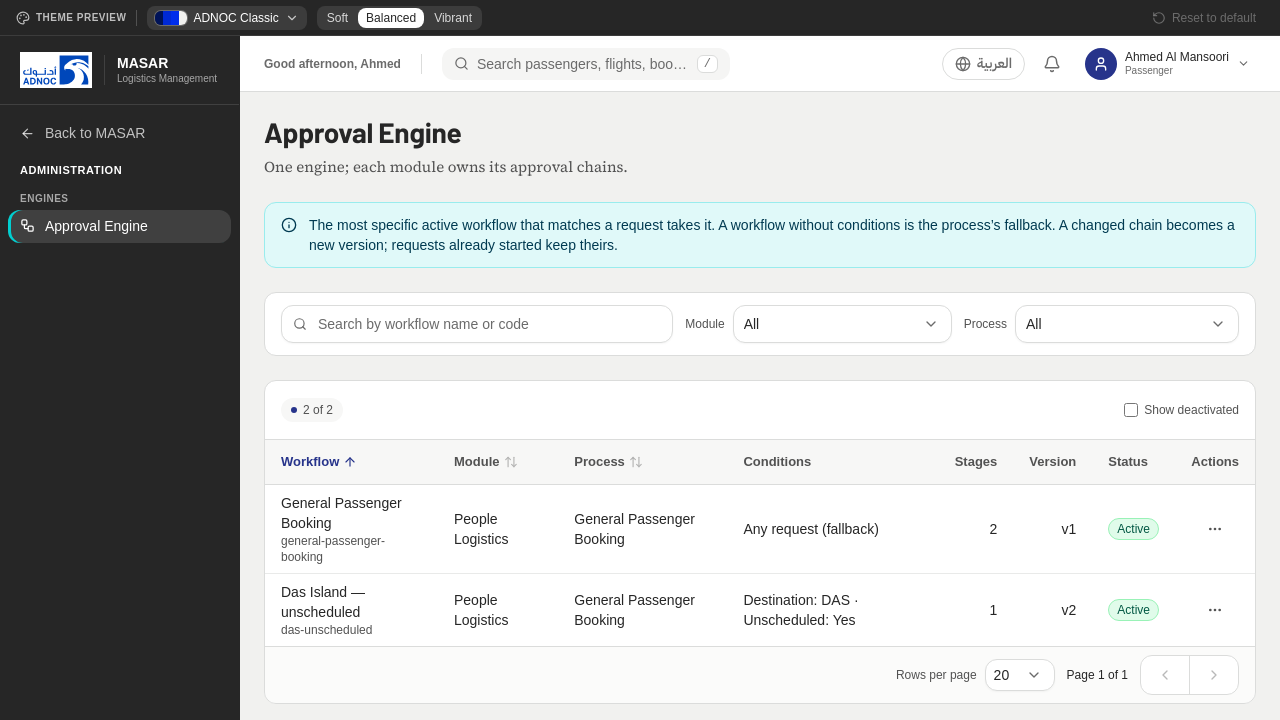
it: BRD-D.2.2.1-MST the Approval Engine page (spec 10 §3.1) › PROMPT-2.7 a viewer sees the list without New or edit
Expected: the text "Das Island — unscheduled" is shown, [281, 584, 365, 620]
Click the button named "Actions for General Passenger Booking".
click(1215, 529)  # box [1191, 510, 1239, 548]
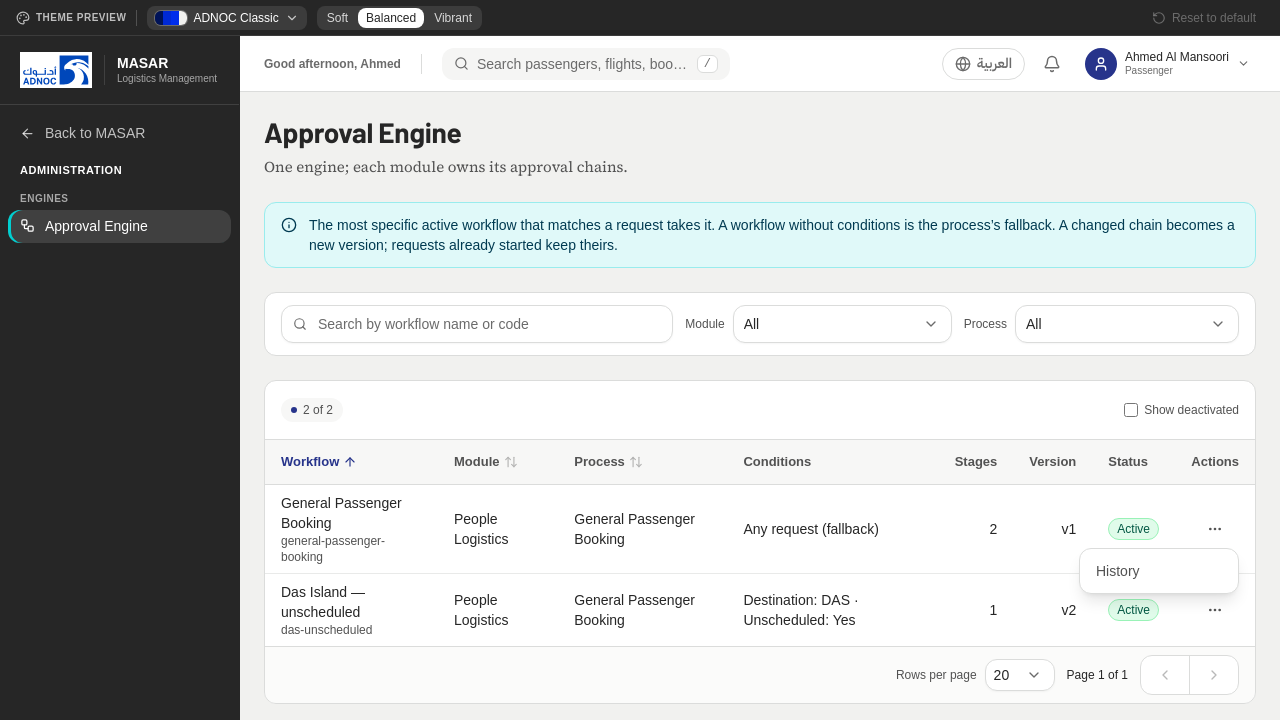
Expected: the menu item "History" is shown, [1096, 563, 1140, 579]
